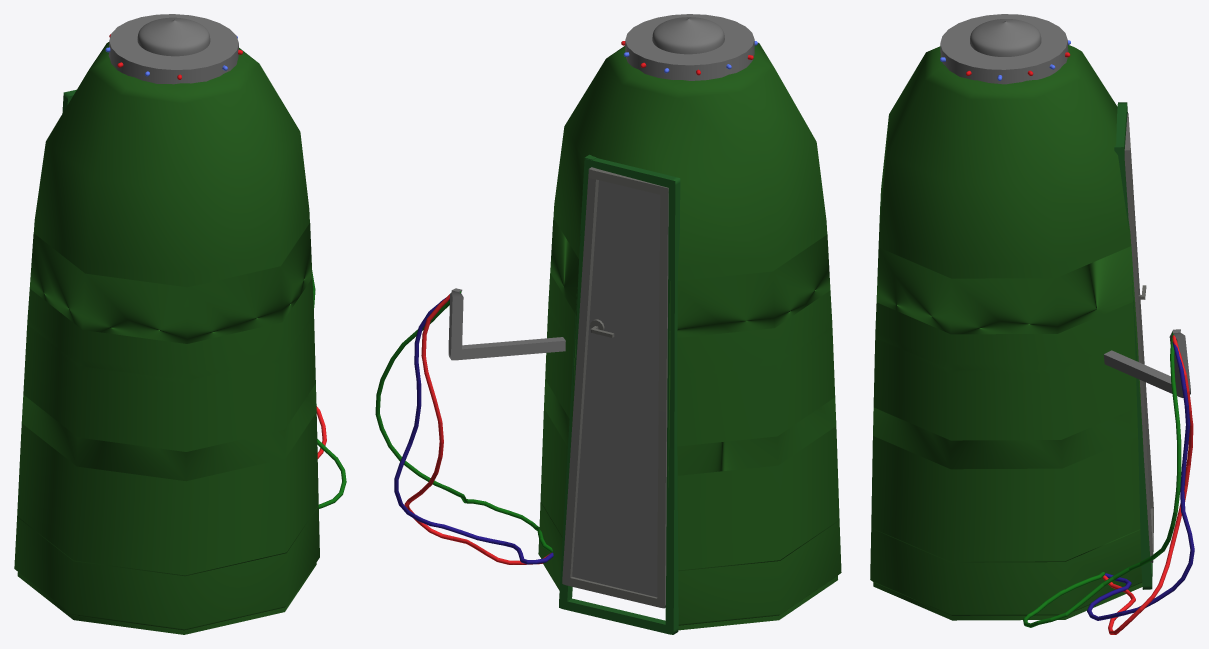
File: chrono_wc_def.fbx
The picture shows the model from 3 angles, left to right: view 1: azimuth 30°, elevation 25°; view 2: azimuth 150°, elevation 25°; view 3: azimuth 270°, elevation 25°; orthographic projection.
Parts seen in each view (by area): view 1: s.0049, p.0109, r.0137, s.0106; view 2: s.0049, c.0051, s.0052, s.0050, p.0109, s.0089, r.0137, s.0108, s.0107, s.0106; view 3: s.0049, p.0109, s.0052, s.0050, s.0106, r.0137, s.0108, s.0089, s.0107.
Boxes of the visible parts, box(x1,y1,x2,y2) form: s.0049: box(14, 42, 319, 634); p.0109: box(108, 14, 238, 84); r.0137: box(137, 17, 210, 56); s.0106: box(312, 270, 346, 508); s.0049: box(538, 42, 841, 630); c.0051: box(572, 180, 660, 597); s.0052: box(562, 167, 668, 608); s.0050: box(559, 154, 680, 634); p.0109: box(625, 14, 754, 80); s.0089: box(448, 288, 565, 360); r.0137: box(652, 17, 724, 54); s.0108: box(394, 298, 553, 564); s.0107: box(404, 294, 550, 564); s.0106: box(375, 291, 552, 552); s.0049: box(870, 45, 1143, 620); p.0109: box(940, 14, 1068, 84); s.0052: box(1124, 113, 1153, 562); s.0050: box(1114, 102, 1152, 589); s.0106: box(1023, 332, 1181, 627); r.0137: box(970, 19, 1041, 56); s.0108: box(1087, 342, 1194, 620); s.0089: box(1103, 329, 1190, 397); s.0107: box(1102, 335, 1193, 634).
Size of the model in its own units: 1.61 by 2.39 by 1.29.
